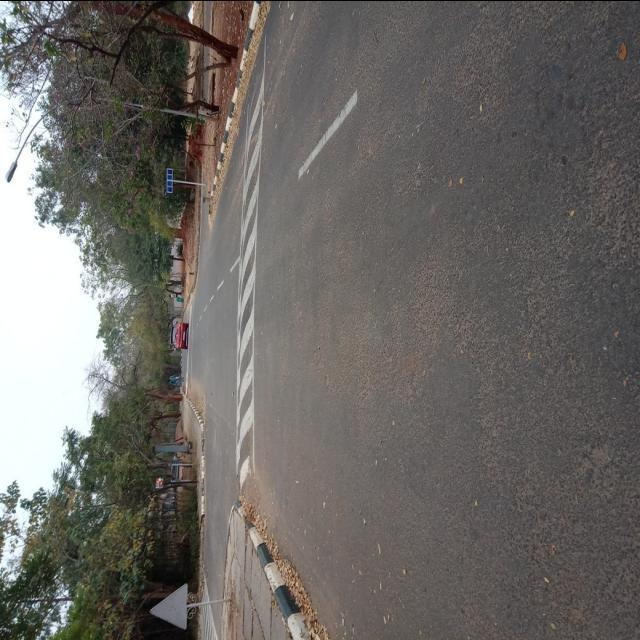speedbreaker: (231, 60, 267, 488)
